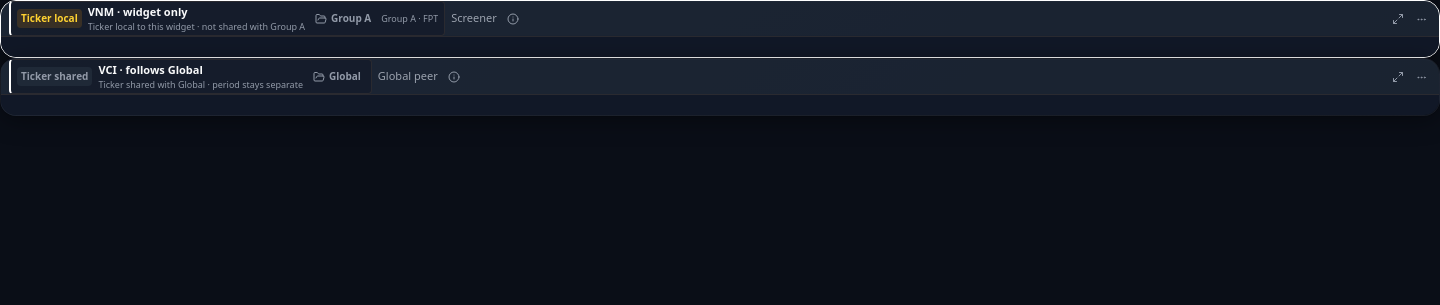
Test: following a different group updates only the detached widget, not the workspace global ticker
Step 1. Click the button with aria-label "Ticker group: Group A, current ticker VNM" → (343, 18), box x1=311 y1=9 x2=375 y2=28
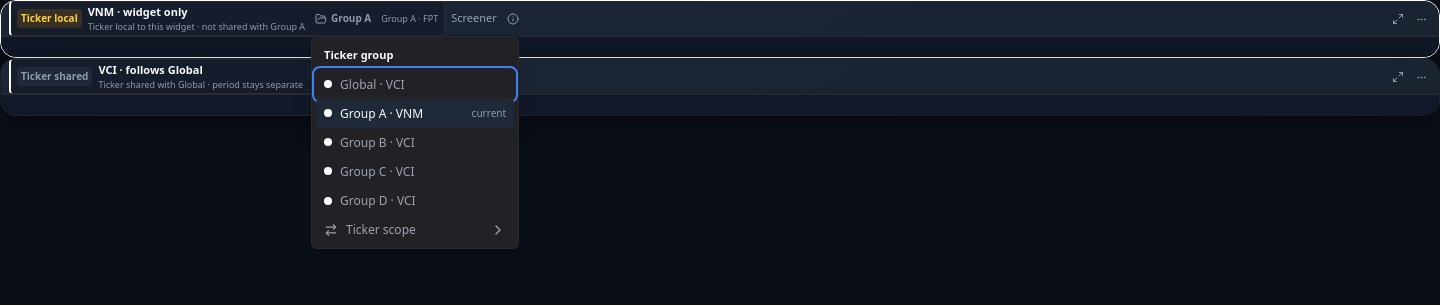
Step 2. Click the menu item with aria-label "Ticker scope for this widget" → (415, 230), box x1=324 y1=221 x2=506 y2=238
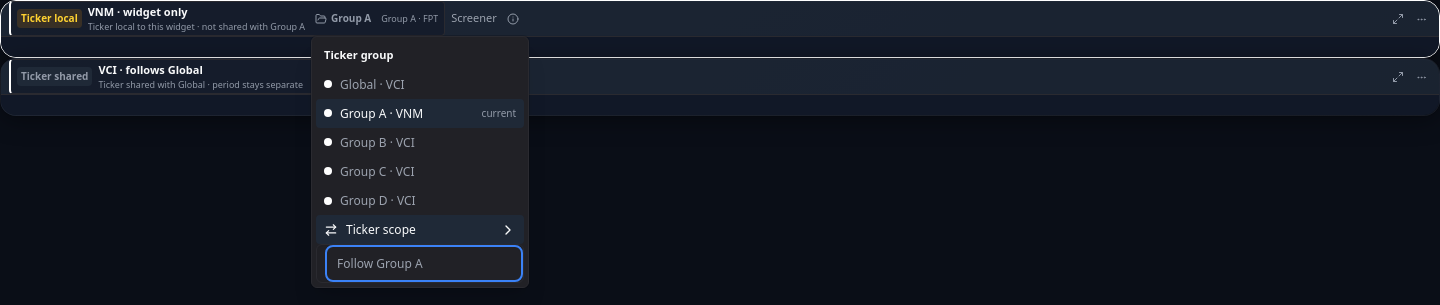
Step 3. Click the menu item "Follow Group A" → (380, 264), box x1=337 y1=255 x2=423 y2=272
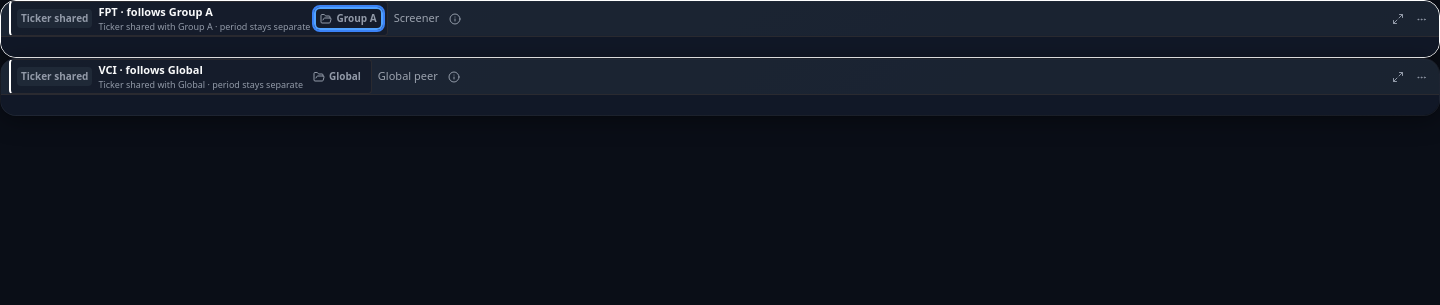
Expected: the button with aria-label "Ticker group: Global, current ticker VCI" is shown, x1=309 y1=67 x2=365 y2=86
Expected: the button with aria-label "Ticker group: Group A, current ticker FPT" is shown, x1=316 y1=9 x2=381 y2=28
